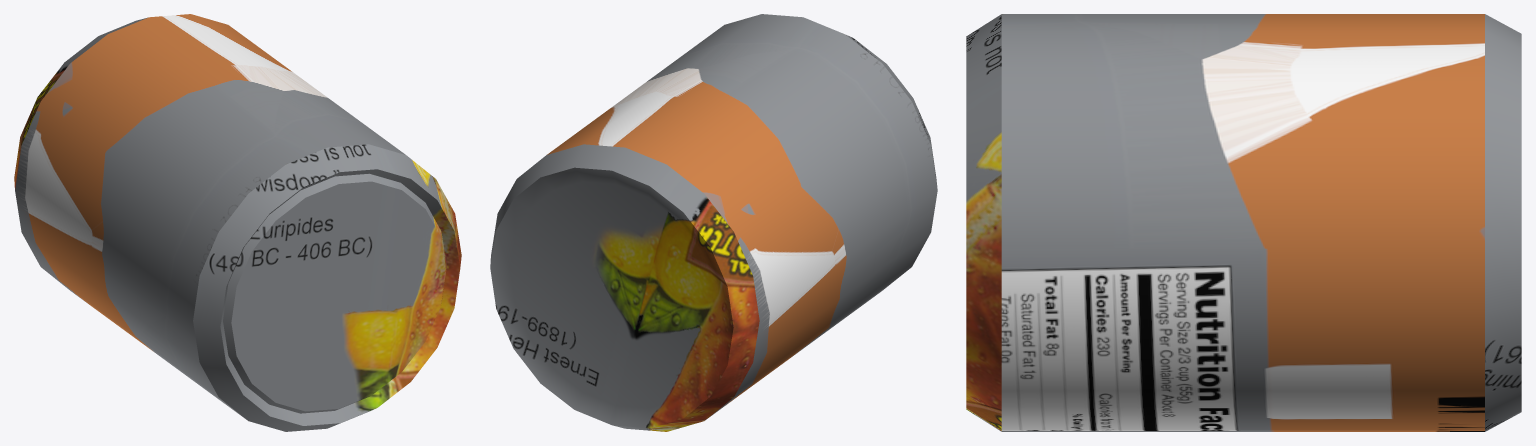
3 views of the same model, side by side, from view 1: azimuth 30°, elevation 25°; view 2: azimuth 150°, elevation 25°; view 3: azimuth 270°, elevation 25° (orthographic). The views are drawn at different scales.
Bounding box in the file's own units: 0.7588 × 0.7588 × 1.
